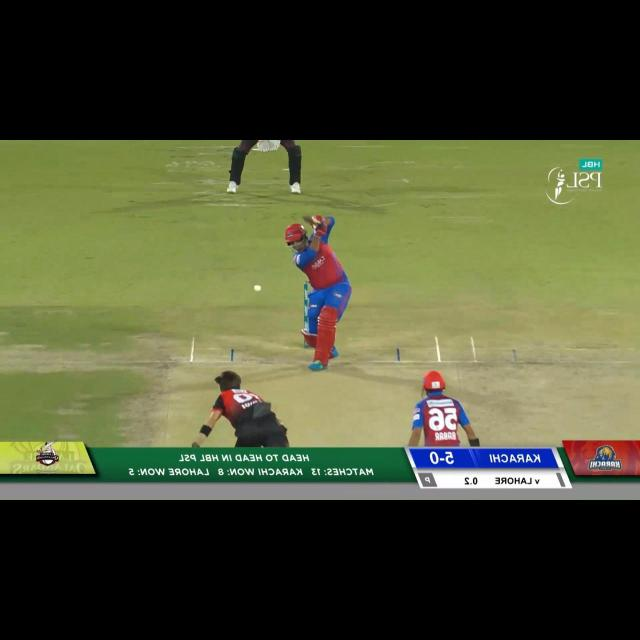toe: (302, 216, 315, 223)
